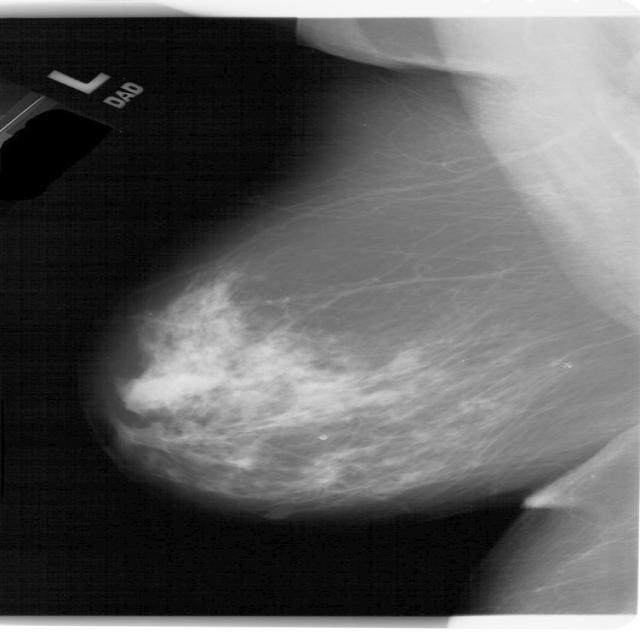tumour: (302, 461, 342, 489)
